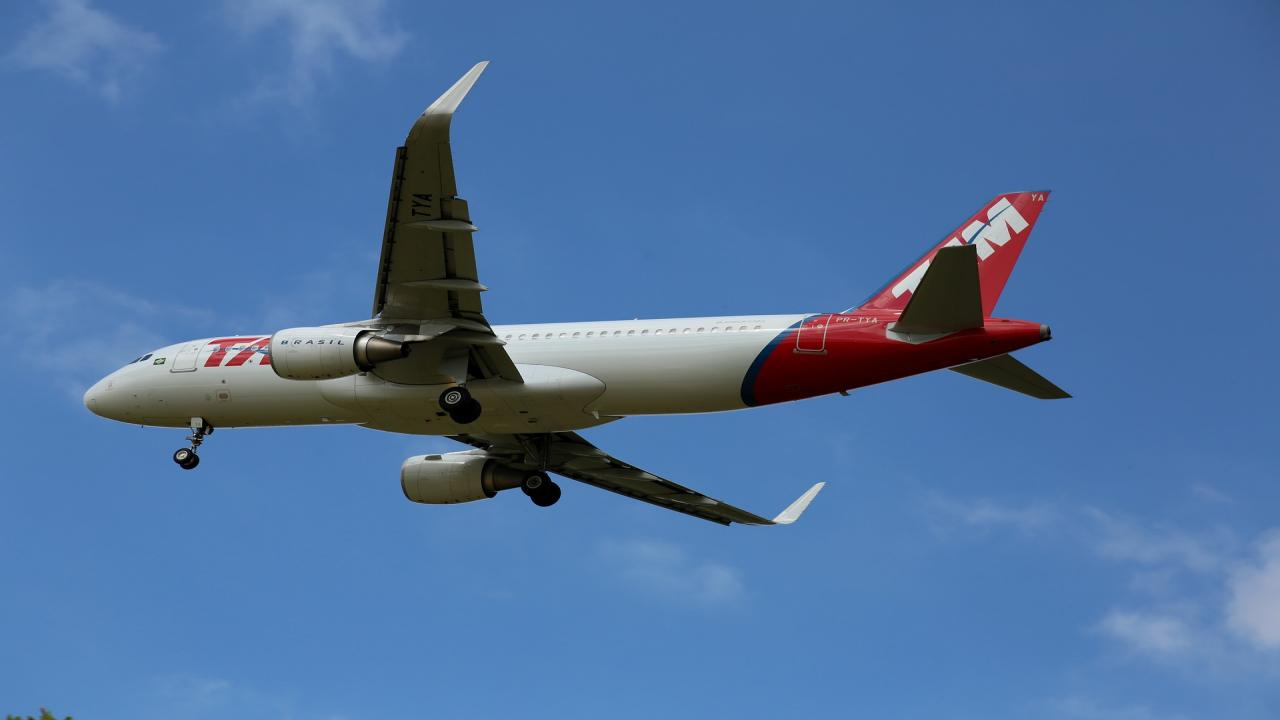Airplane: (74, 47, 1088, 538)
